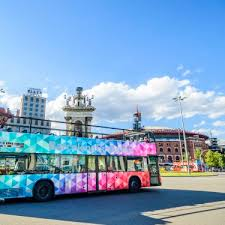bus: (1, 131, 161, 202)
